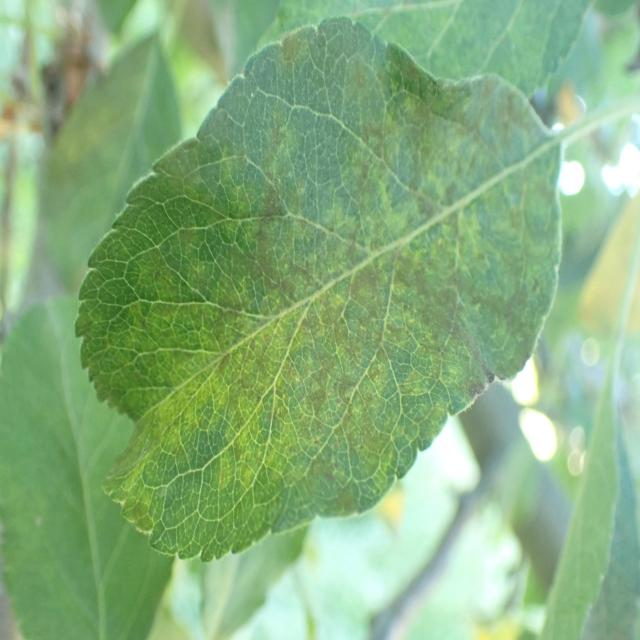scab: (84, 40, 573, 536)
